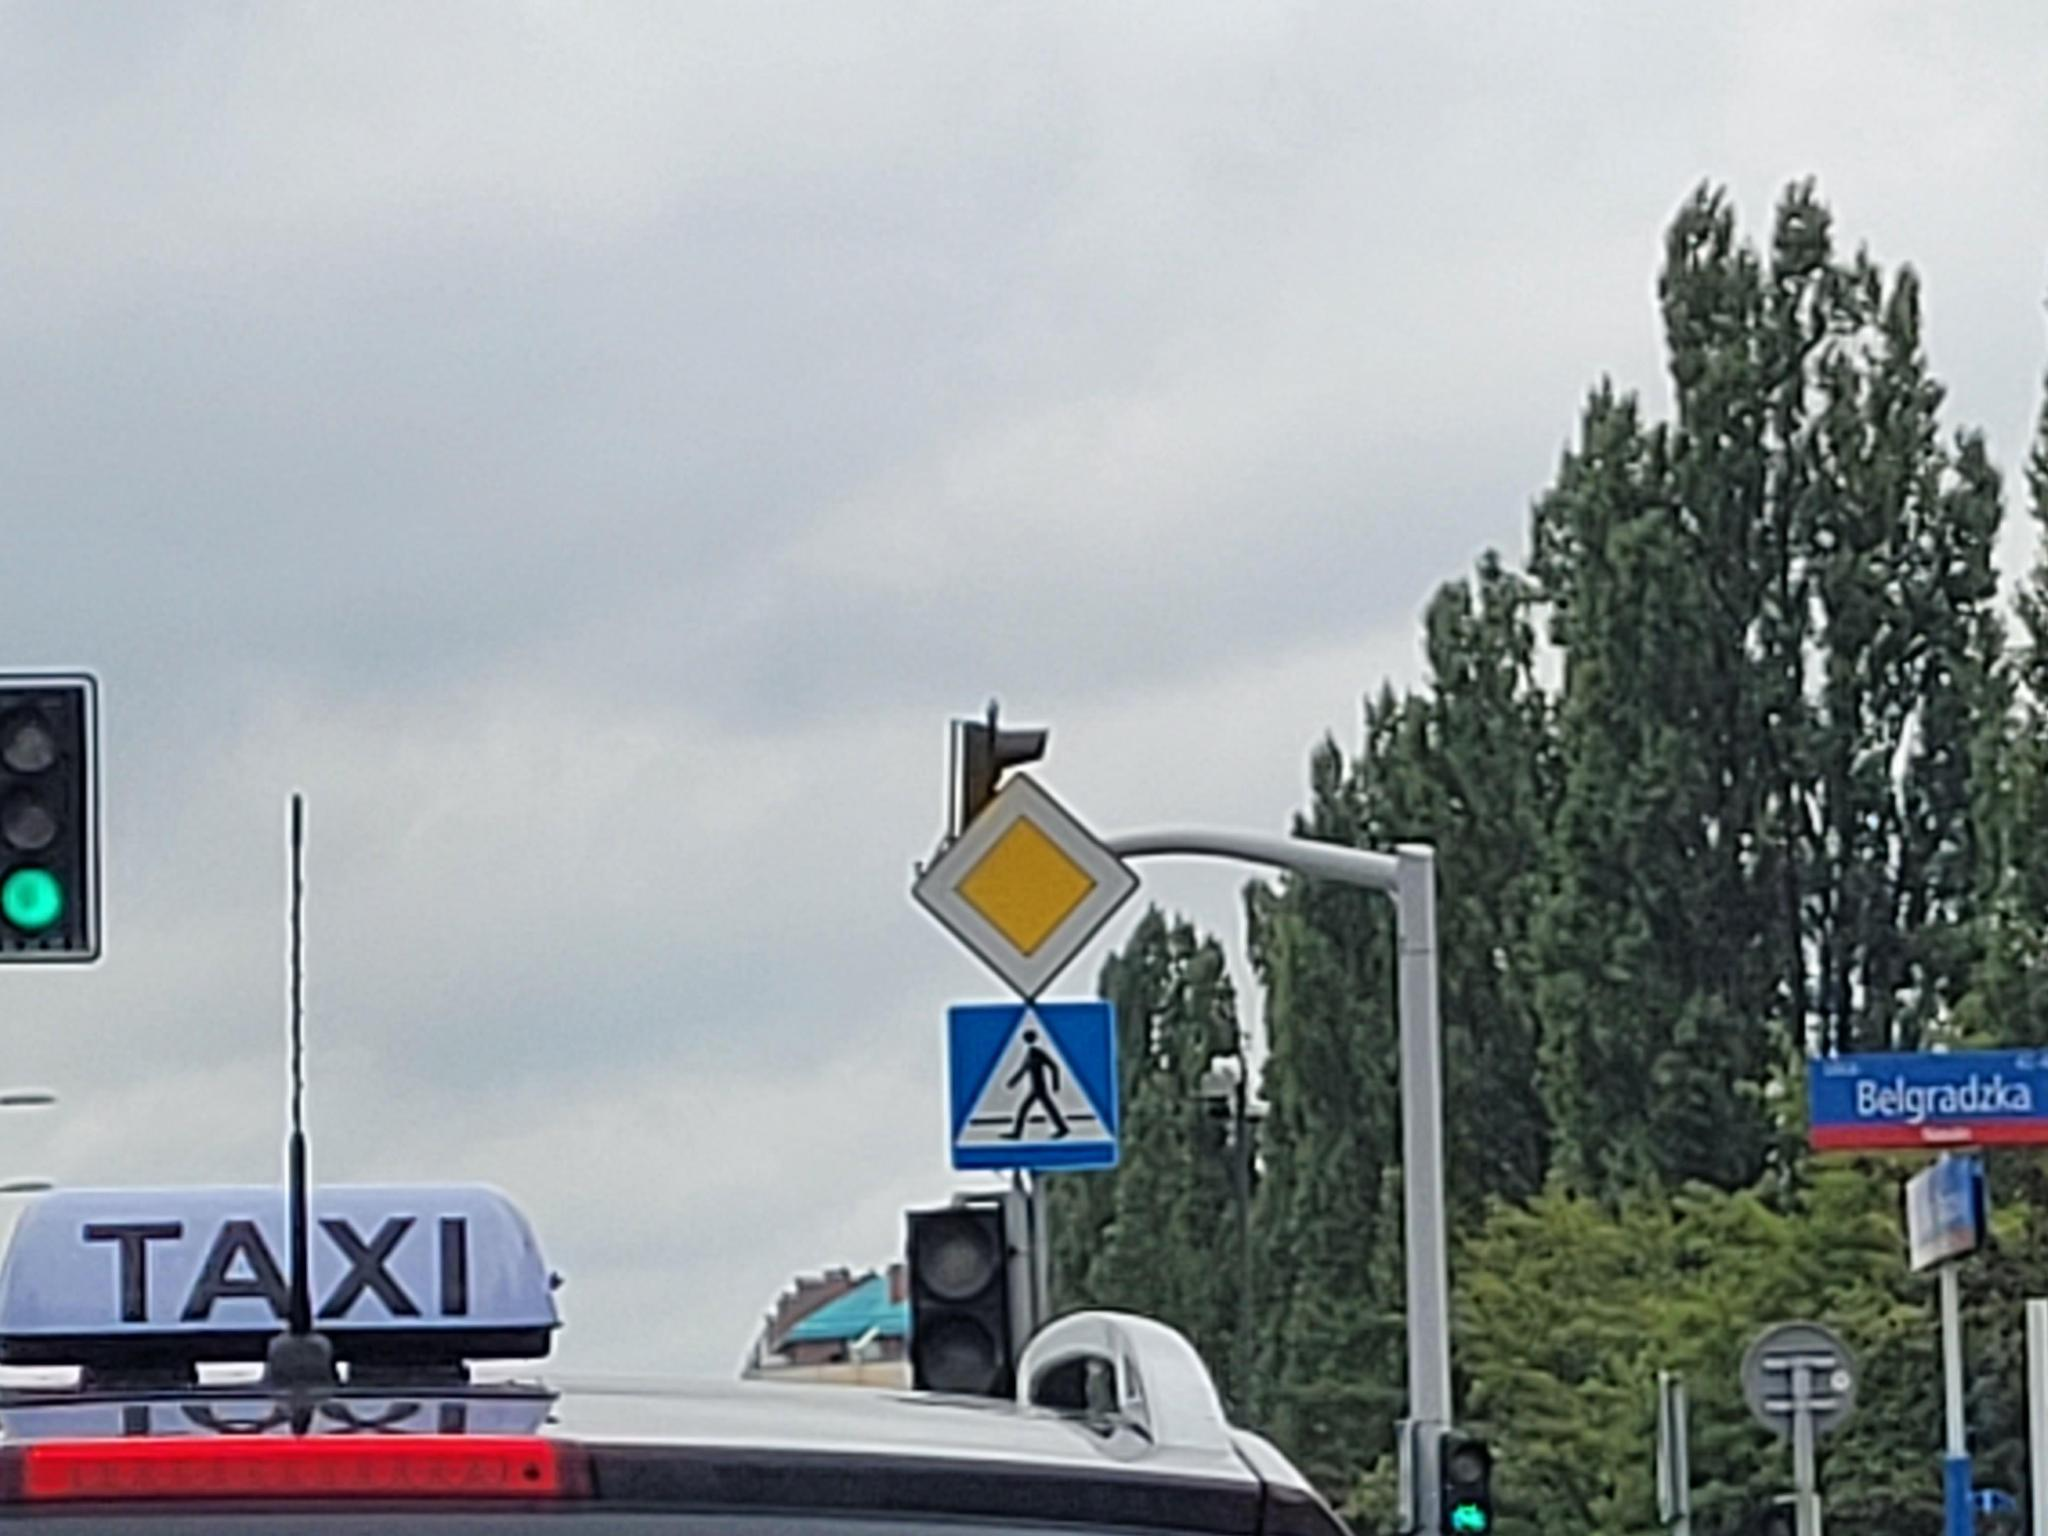information: (910, 766, 1140, 1005), (937, 999, 1135, 1178)
